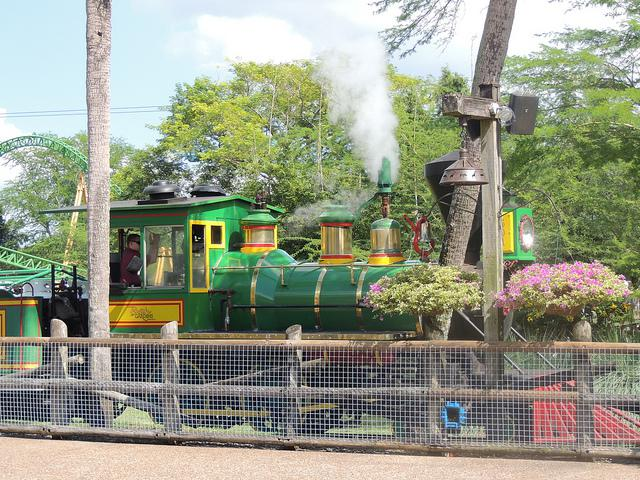Train: (2, 152, 540, 373)
